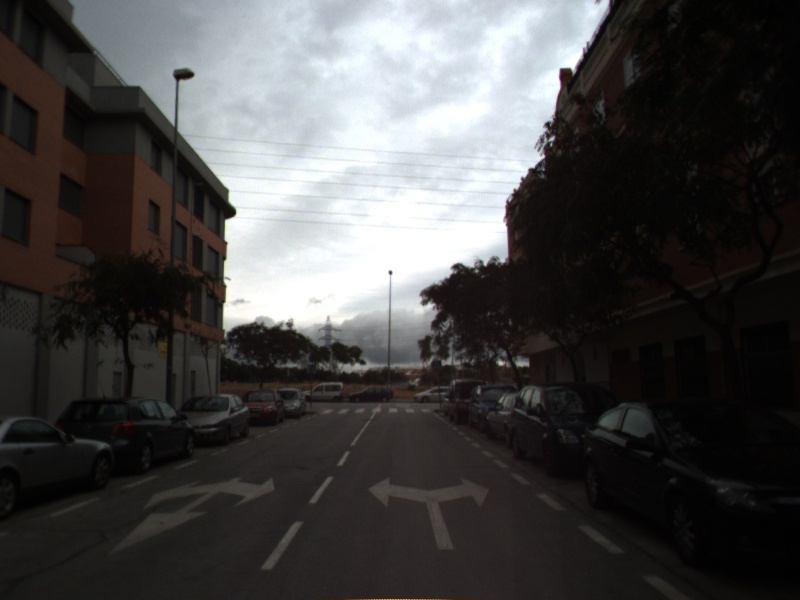LEFT_RIGHT: (366, 472, 492, 551)
